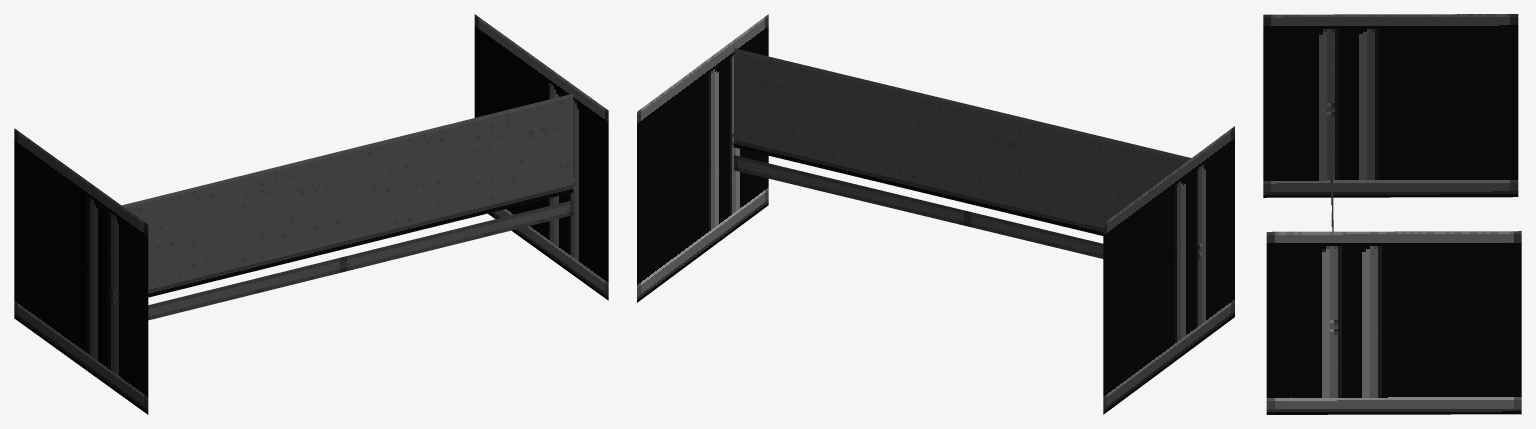
File: secondary_116.glb
3 renders of one model, left to right at view 1: azimuth 30°, elevation 25°; view 2: azimuth 150°, elevation 25°; view 3: azimuth 270°, elevation 25°, orthographic. The views are drawn at different scales.
Visible parts, largest first — view 1: Object; view 2: Object; view 3: Object.
Part boxes in pixels (<box>): Object: <box>14,14,608,414</box>; Object: <box>637,14,1234,414</box>; Object: <box>1263,14,1521,414</box>.
Size of the model in its own units: 2.73 by 1.07 by 1.37.
3 materials, 3 textured.
